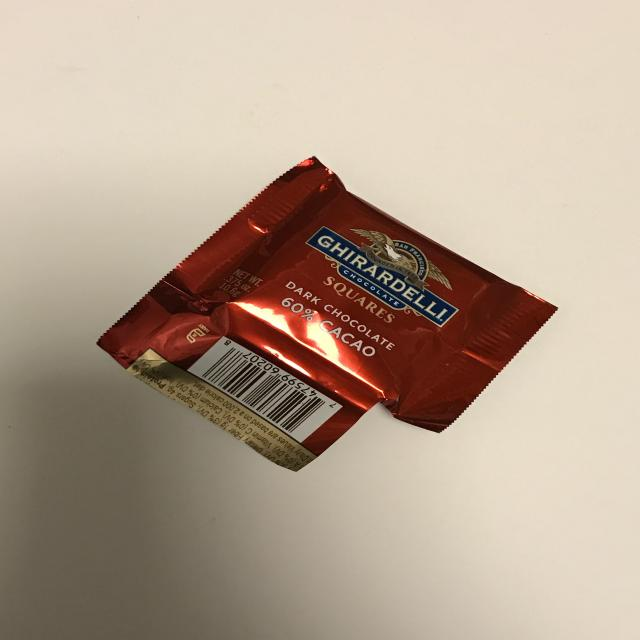trash: (96, 155, 559, 472)
